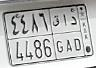D: (71, 16, 82, 51)
G: (52, 16, 64, 54)
